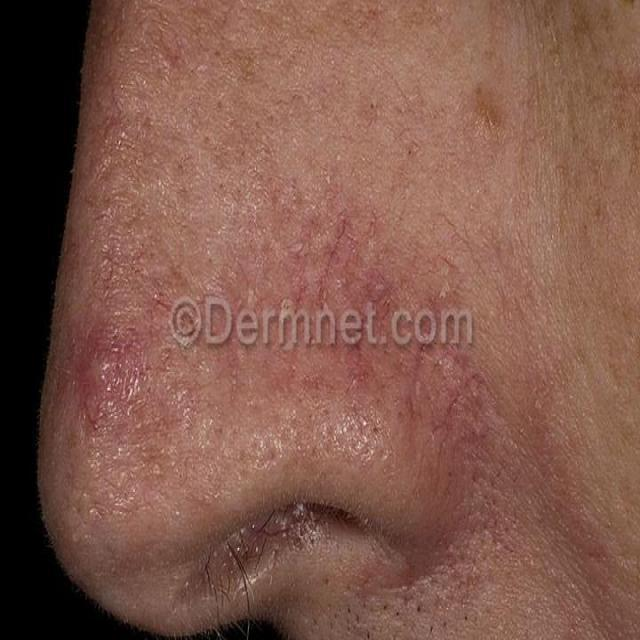Eczema: (58, 187, 522, 611)
